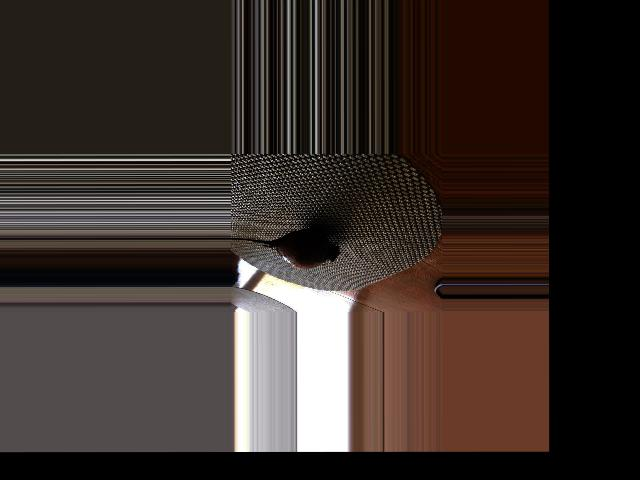beet: (231, 229, 340, 268)
